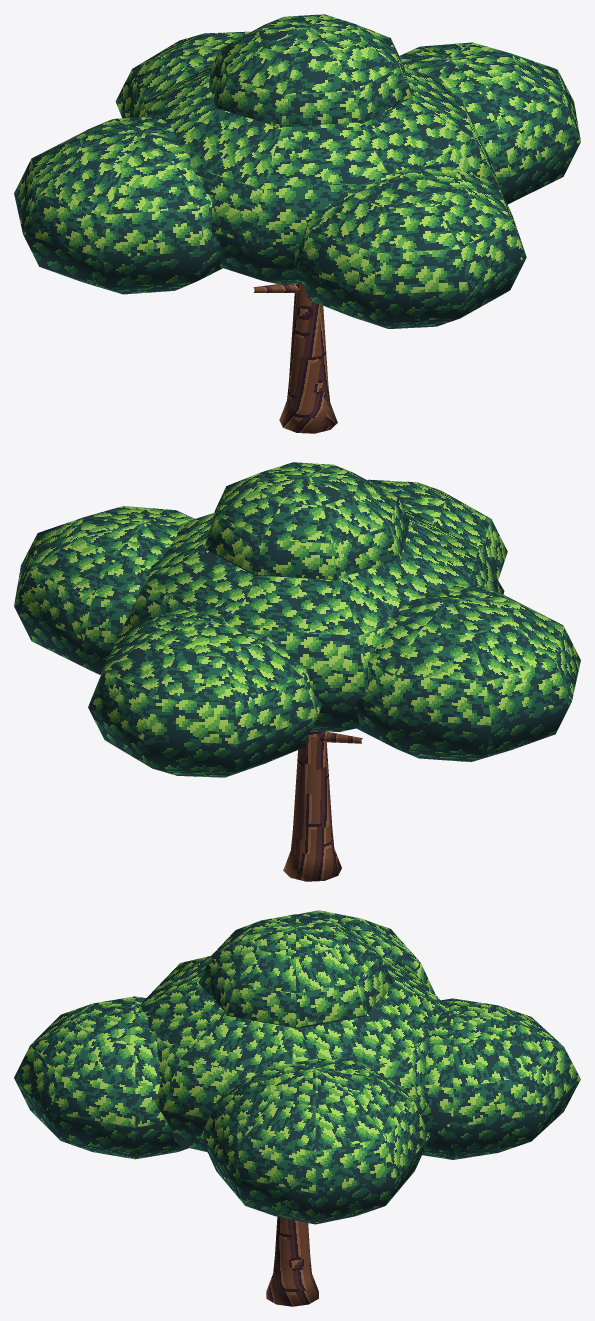
File: spreading.glb
3 renders of one model, top to bottom at view 1: azimuth 30°, elevation 25°; view 2: azimuth 150°, elevation 25°; view 3: azimuth 270°, elevation 25°, orthographic. The views are drawn at different scales.
Visible parts, largest first — view 1: OakRoot; view 2: OakRoot; view 3: OakRoot.
Boxes of the visible parts, x1,y1,x2,y2 form: OakRoot: [14, 14, 580, 433]; OakRoot: [14, 462, 580, 881]; OakRoot: [14, 910, 580, 1306].
Size of the model in its own units: 9.1 by 6.2 by 8.65.
2 materials, 2 textured.
